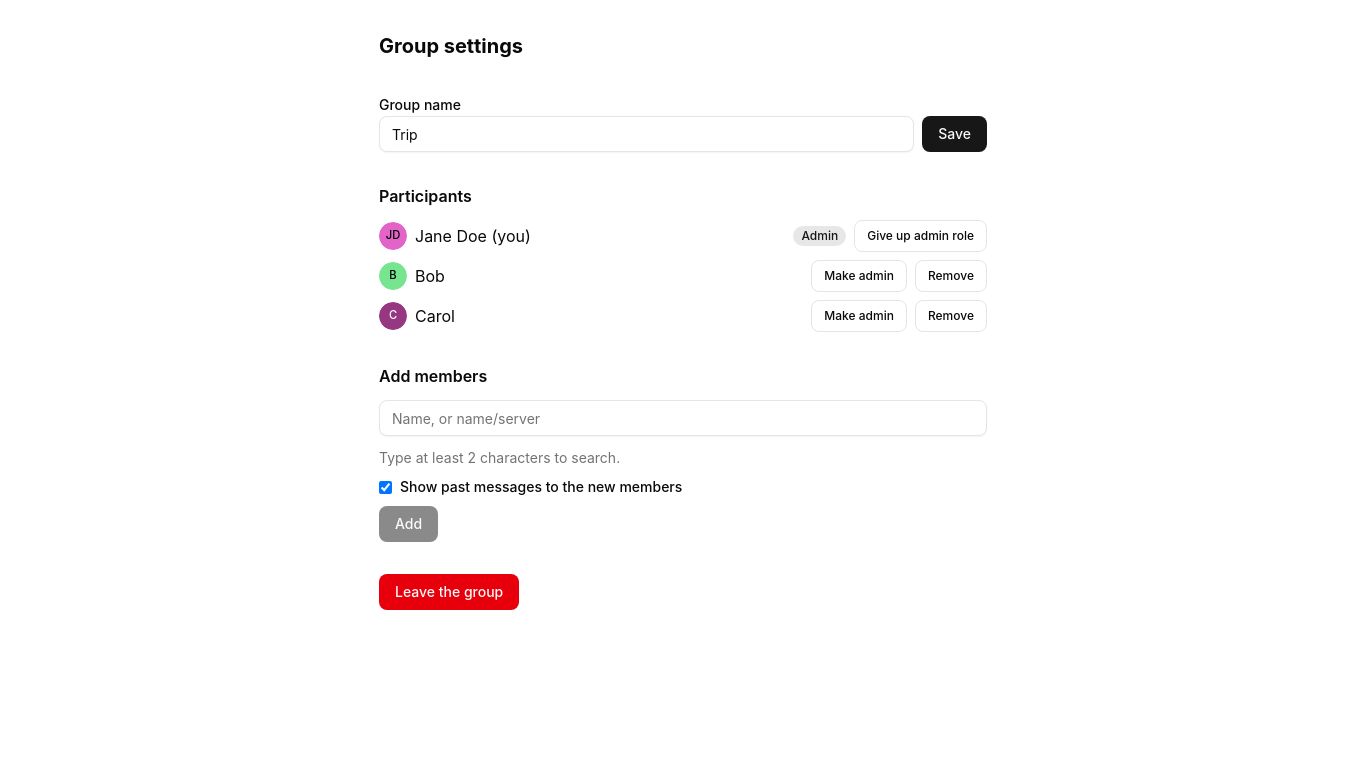
Test case: GroupSettingsPage › warns the only admin that leaving deletes the group for everyone
This screenshot has width=1366, height=768.
Click the button "Leave the group" at (449, 592), box [379, 574, 519, 610]
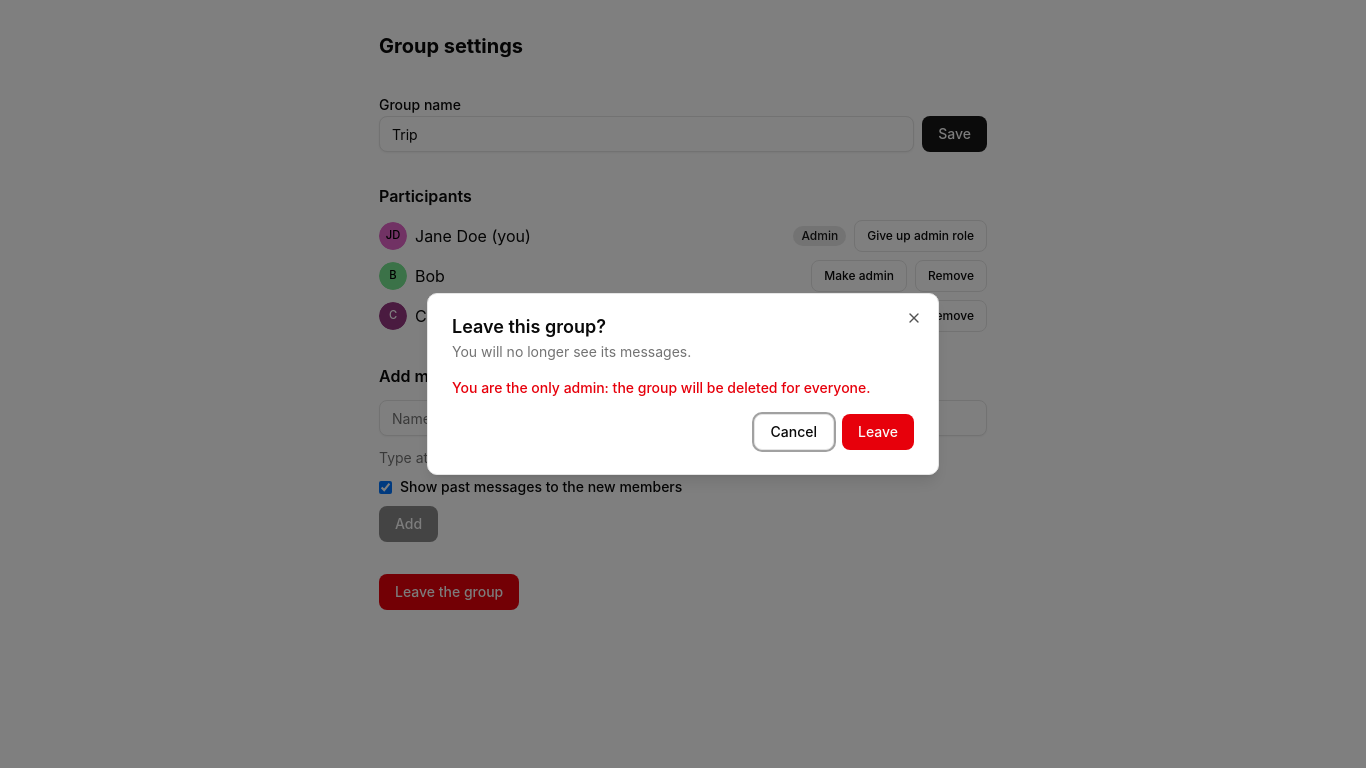
Expected: the message reads "You are the only admin: the group will be deleted for everyone.", [452, 379, 870, 396]
